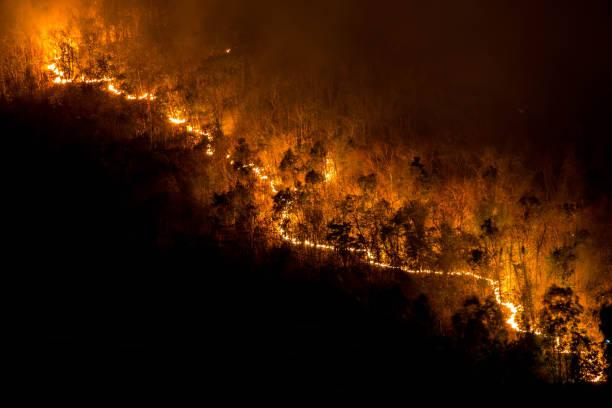Fire: (48, 9, 603, 364)
